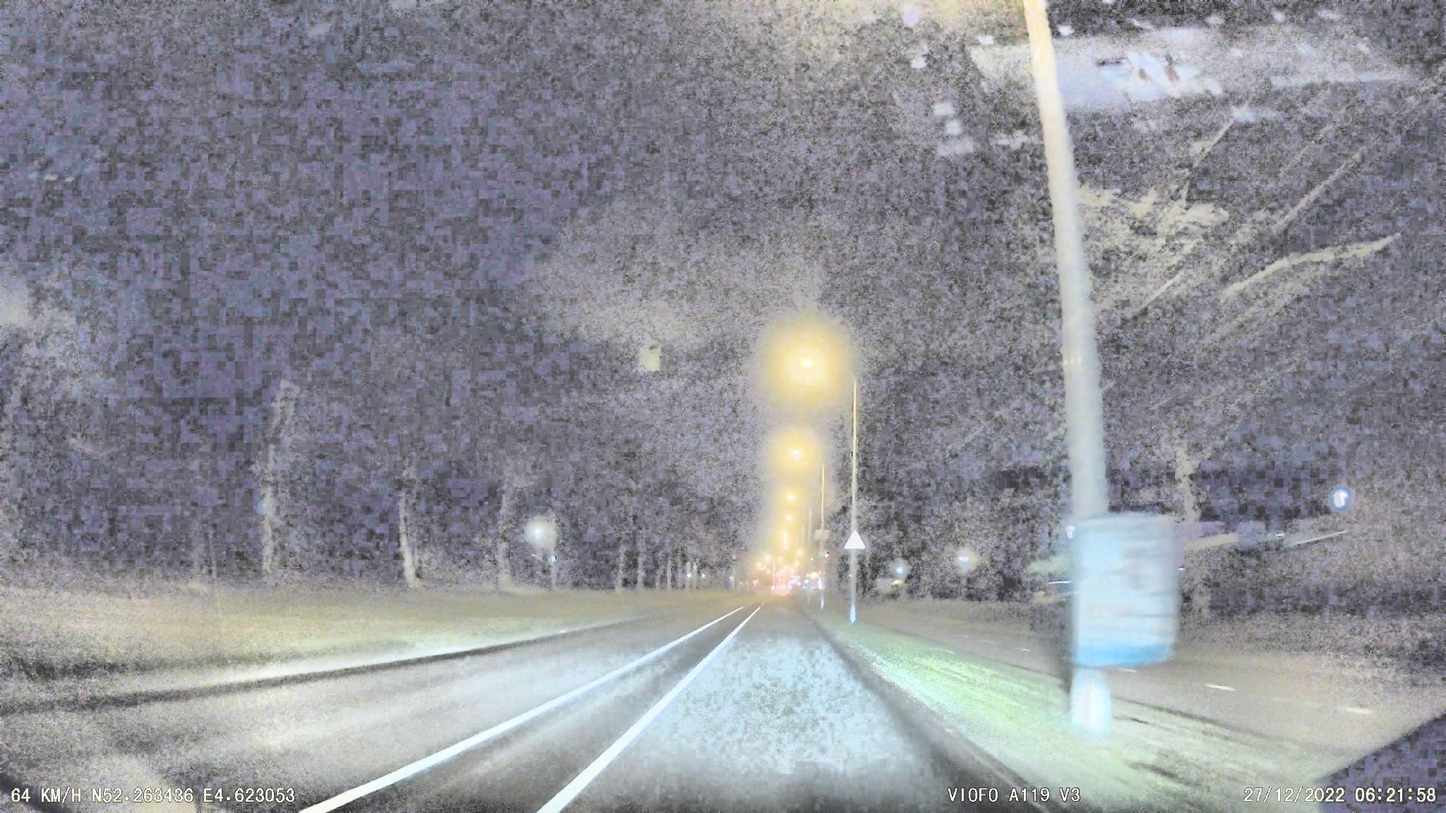Roads: (68, 609, 979, 813)
